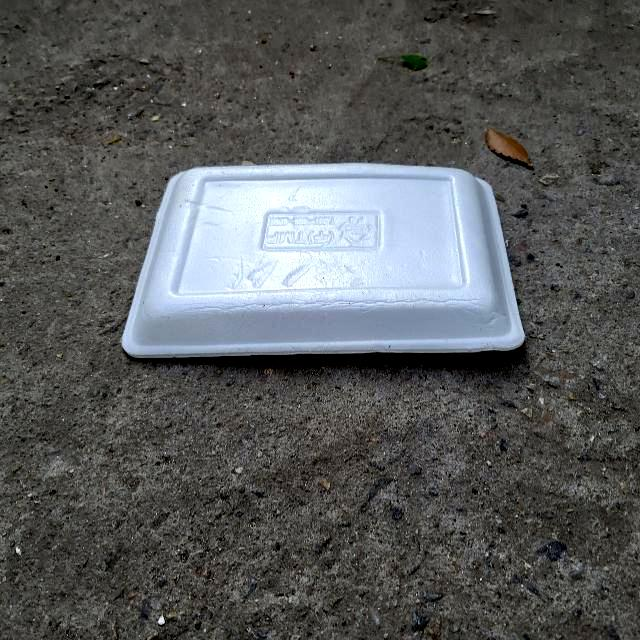Styrofoam: (121, 164, 526, 360), (122, 163, 525, 358)
